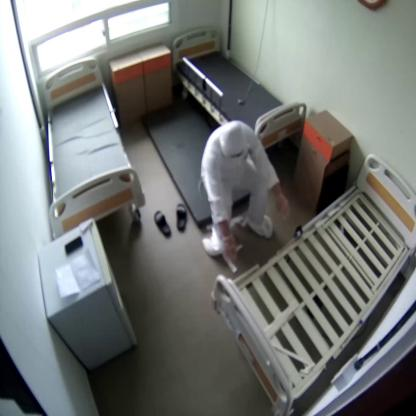Person: (201, 120, 290, 265)
